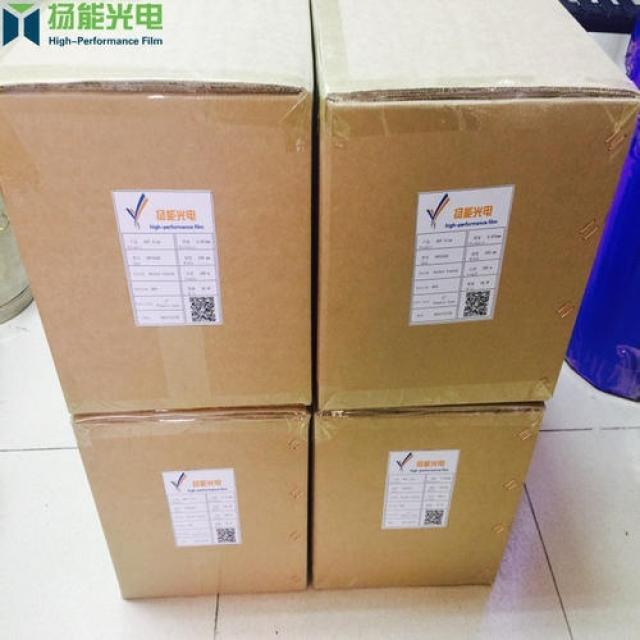box: (310, 0, 640, 411), (69, 410, 312, 600), (311, 402, 547, 591)
